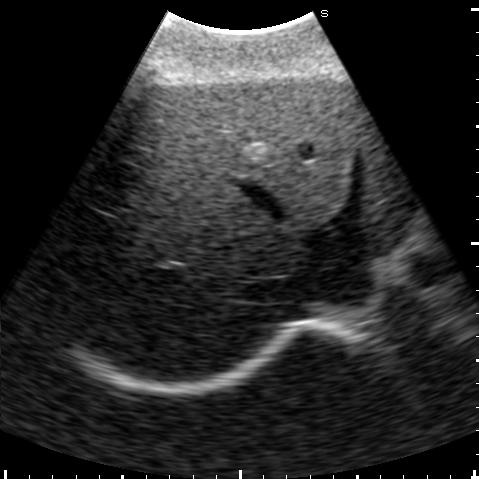S2: (360, 108, 410, 240)
S4: (134, 79, 358, 225)
S7: (101, 267, 269, 381)
S8: (109, 167, 298, 279)
Tumor: (243, 141, 269, 162)
